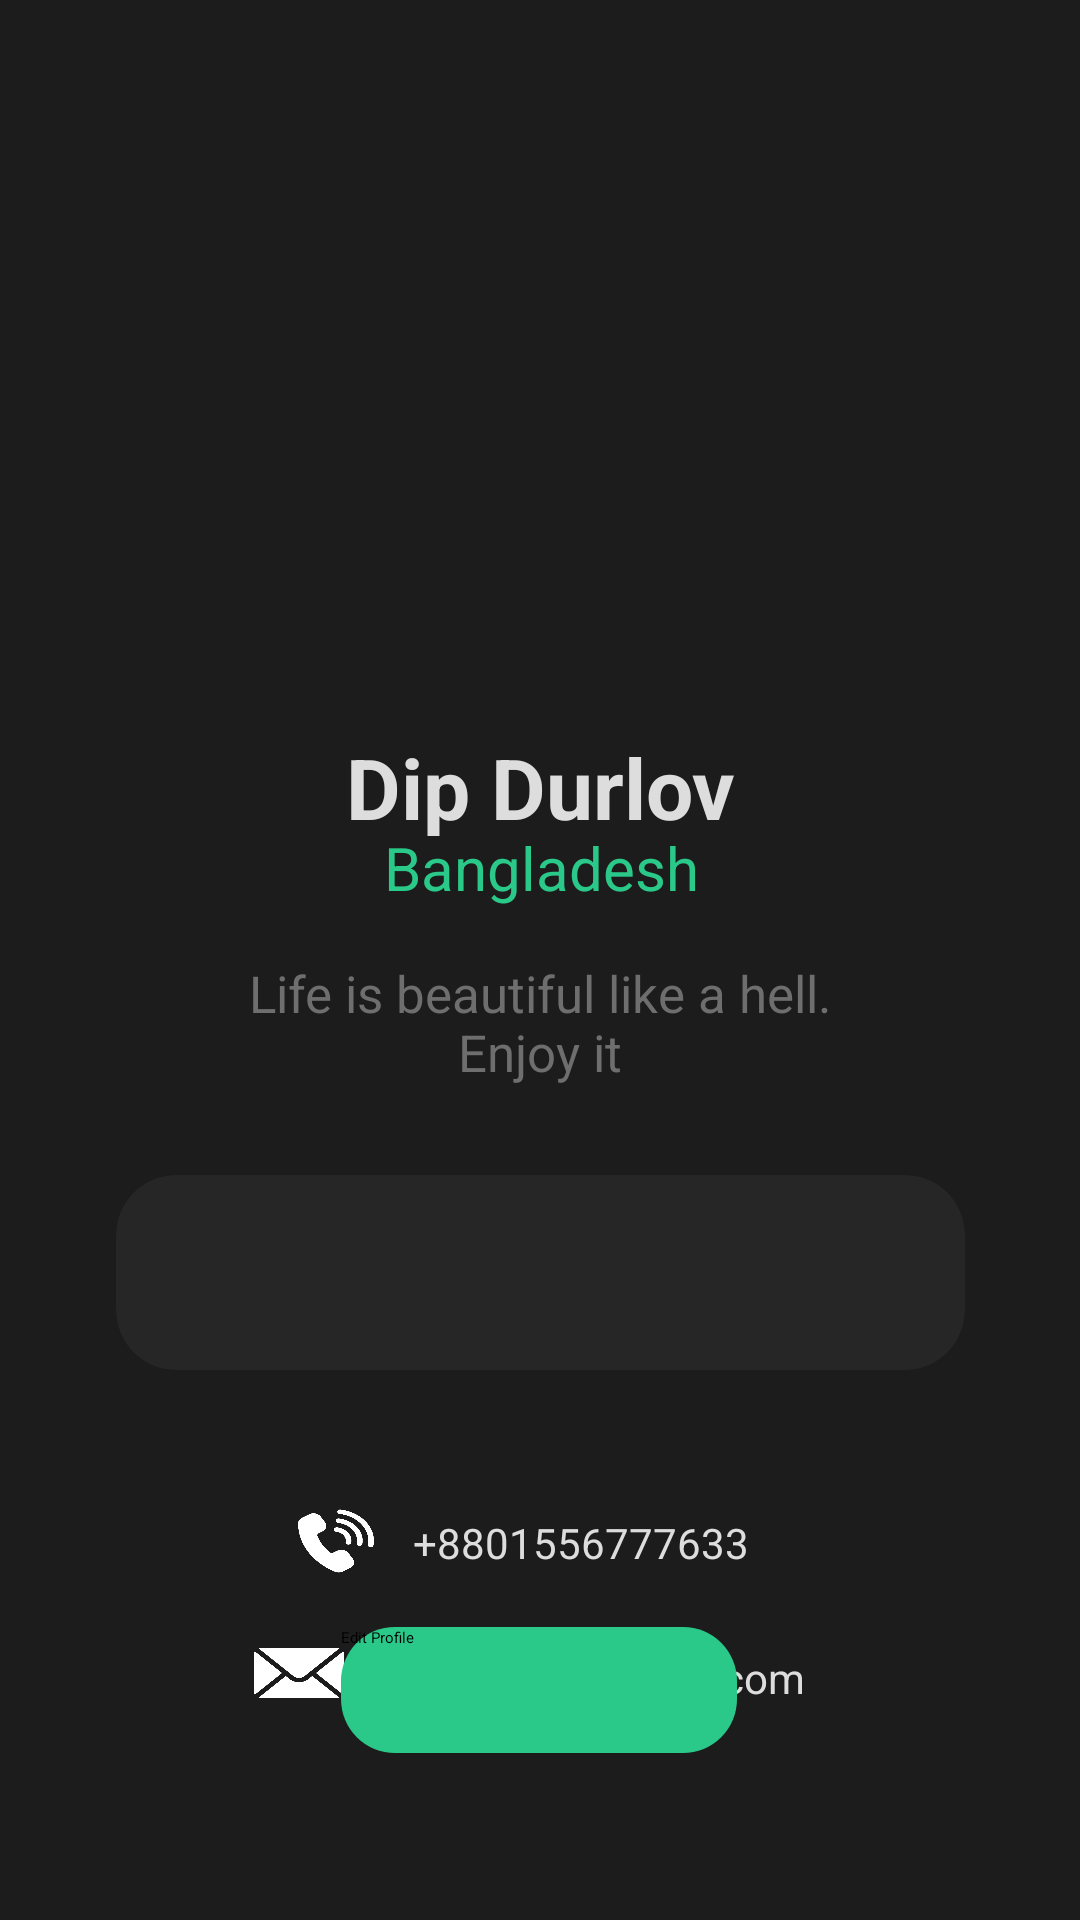

Named icons in this screenshot (1080x1920) and their centers, (x,y):
phone: (336,1541)
